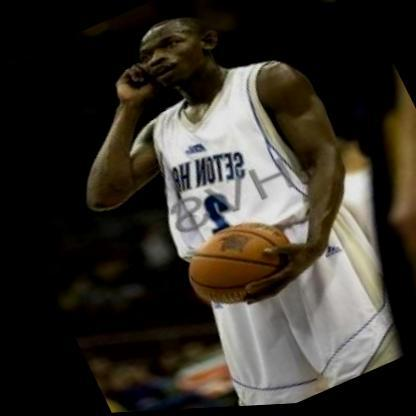basketball: (159, 204, 308, 327)
